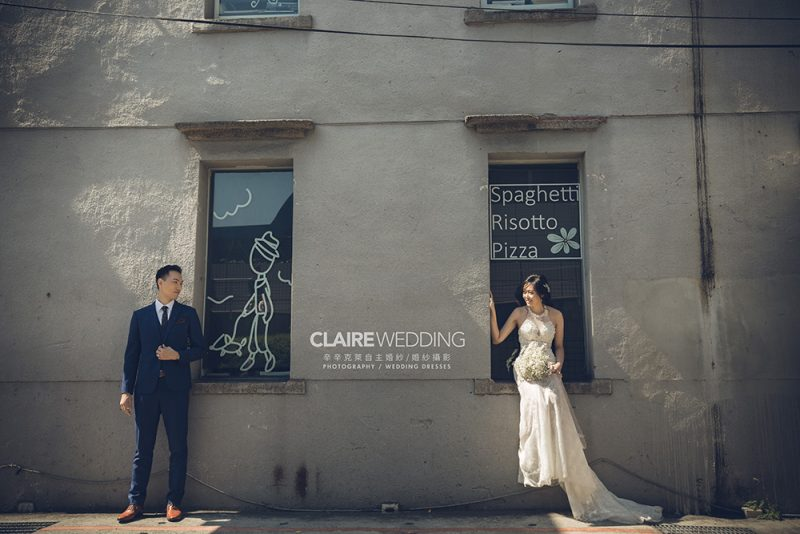people: (119, 265, 205, 522), (490, 275, 586, 484)
